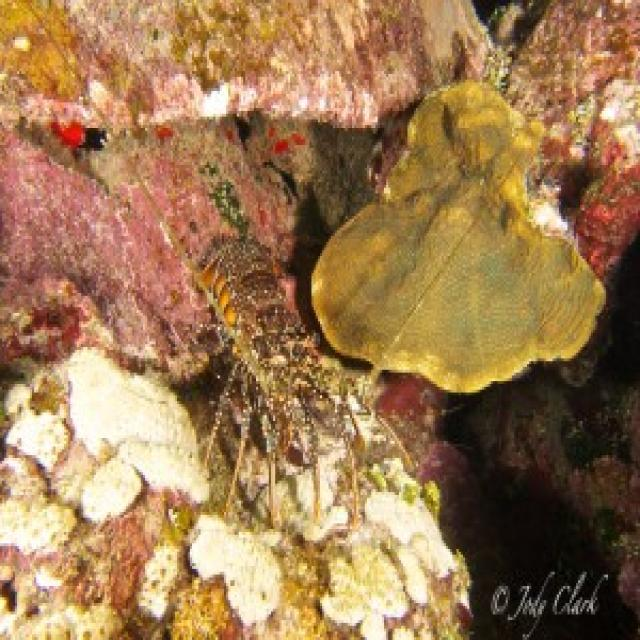lobsters: (127, 178, 366, 556)
